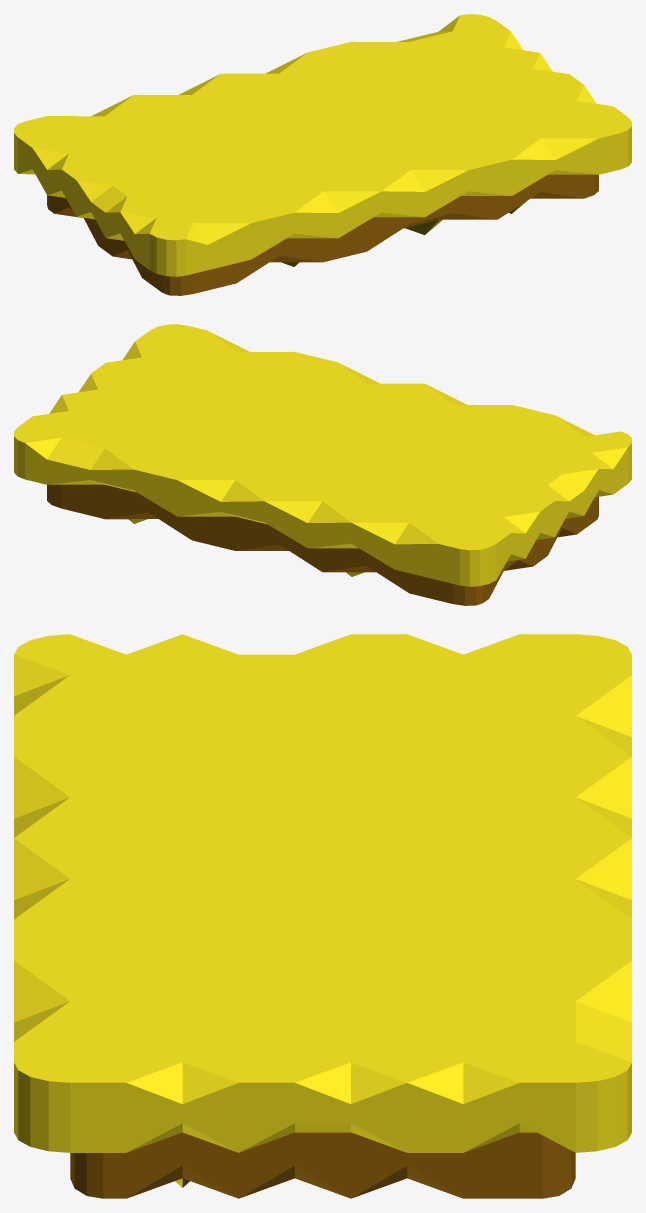
Rendered from Floor_Break_Gold.obj.
The picture shows the model from 3 angles, top to bottom: view 1: azimuth 30°, elevation 25°; view 2: azimuth 150°, elevation 25°; view 3: azimuth 270°, elevation 25°; orthographic projection. The views are drawn at different scales.
Parts seen in each view (by area): view 1: Cube; view 2: Cube; view 3: Cube.
Boxes of the visible parts, left/top/right/bottom form: Cube: left=14, top=14, right=631, bottom=295; Cube: left=14, top=324, right=631, bottom=605; Cube: left=14, top=634, right=631, bottom=1198.
Bounding box in the file's own units: 13.85 × 2.69 × 8.07.
